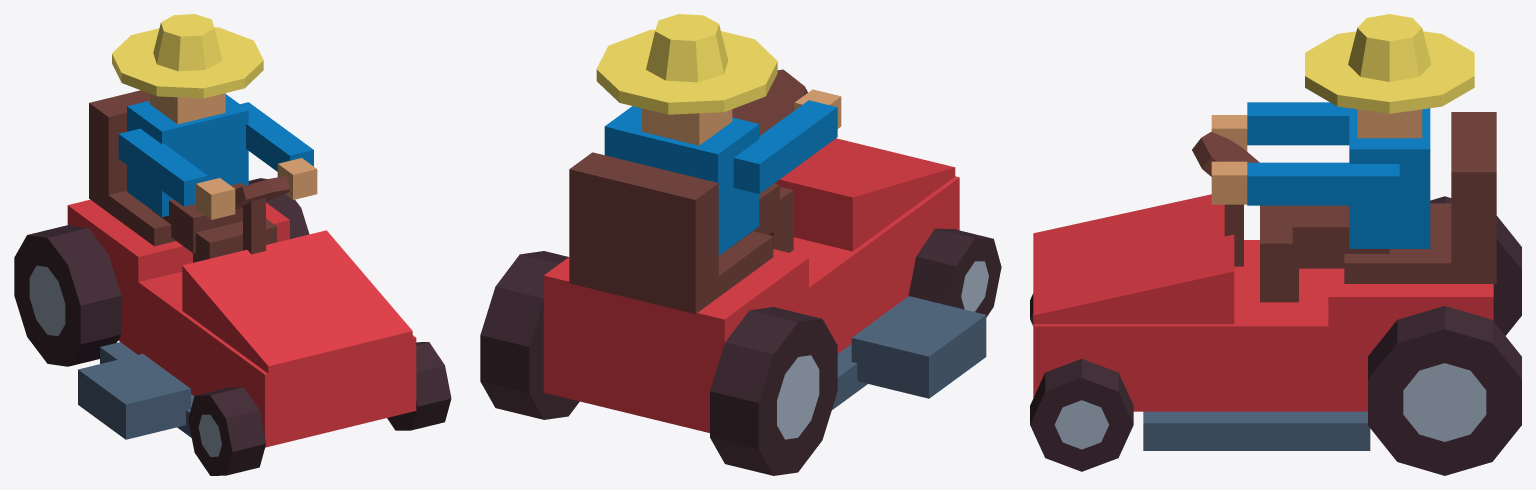
The model's file is mower.glb.
The picture shows the model from 3 angles, left to right: view 1: azimuth 30°, elevation 25°; view 2: azimuth 150°, elevation 25°; view 3: azimuth 270°, elevation 25°; orthographic projection. The views are drawn at different scales.
Visible parts, largest first — view 1: Hood, Chassis, RearL, Chute, Torso, Brim, FrontL, Rear, Backrest, ArmL, Crown, FrontR (+11 smaller); view 2: Chassis, Backrest, RearL, Hood, Rear, Chute, RearR, Brim, Torso, FrontL, ArmL, Crown (+8 smaller); view 3: Chassis, Hood, RearR, Deck, FrontR, Brim, Backrest, Torso, ArmR, Rear, Cushion, Crown (+9 smaller).
Part boxes in pixels (box(x1,y1,x2,y2)): Hood: box(182, 230, 412, 381); Chassis: box(111, 262, 416, 447); RearL: box(14, 225, 121, 366); Chute: box(78, 353, 190, 439); Torso: box(127, 94, 248, 217); Brim: box(112, 27, 263, 98); FrontL: box(188, 387, 266, 475); Rear: box(67, 199, 289, 281); Backrest: box(89, 90, 149, 210); ArmL: box(118, 128, 207, 206); Crown: box(153, 14, 222, 71); FrontR: box(387, 342, 451, 430); Chassis: box(543, 176, 959, 432); Backrest: box(569, 152, 718, 313); RearL: box(710, 307, 837, 475); Hood: box(775, 138, 955, 251); Rear: box(543, 249, 808, 357); Chute: box(851, 296, 986, 398); RearR: box(480, 251, 579, 419); Brim: box(596, 29, 777, 114); Torso: box(614, 109, 759, 255); FrontL: box(908, 228, 1001, 317); ArmL: box(733, 100, 837, 193); Crown: box(646, 14, 728, 82); Chassis: box(1033, 240, 1386, 411); Hood: box(1033, 194, 1234, 324); RearR: box(1368, 306, 1521, 475); Deck: box(1143, 411, 1370, 450); FrontR: box(1030, 359, 1133, 471); Brim: box(1305, 31, 1474, 113); Backrest: box(1451, 112, 1496, 283); Torso: box(1349, 108, 1430, 248); ArmR: box(1247, 162, 1399, 205); Rear: box(1328, 268, 1493, 335); Cushion: box(1344, 203, 1457, 283); Crown: box(1348, 14, 1431, 81).
Bounding box in the file's own units: 1.14 × 1.3 × 1.52.
